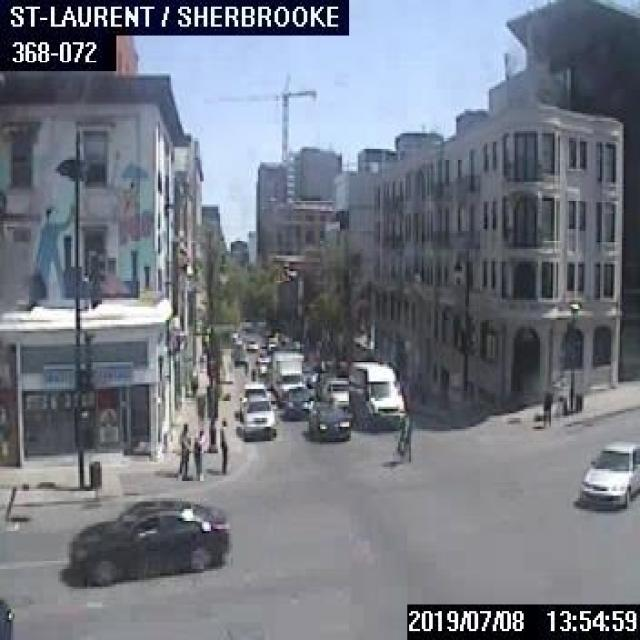cyclist: (389, 407, 411, 460)
pedestrian: (215, 416, 229, 476), (176, 422, 190, 480), (192, 425, 203, 479), (541, 388, 551, 426)
vehicle: (69, 496, 227, 582), (580, 438, 638, 509), (347, 360, 404, 429), (270, 348, 304, 406), (307, 399, 348, 440), (238, 398, 276, 442), (278, 387, 315, 418), (239, 382, 269, 416), (319, 376, 347, 406), (0, 593, 15, 638), (233, 346, 247, 366), (256, 354, 269, 374), (246, 336, 256, 349)
